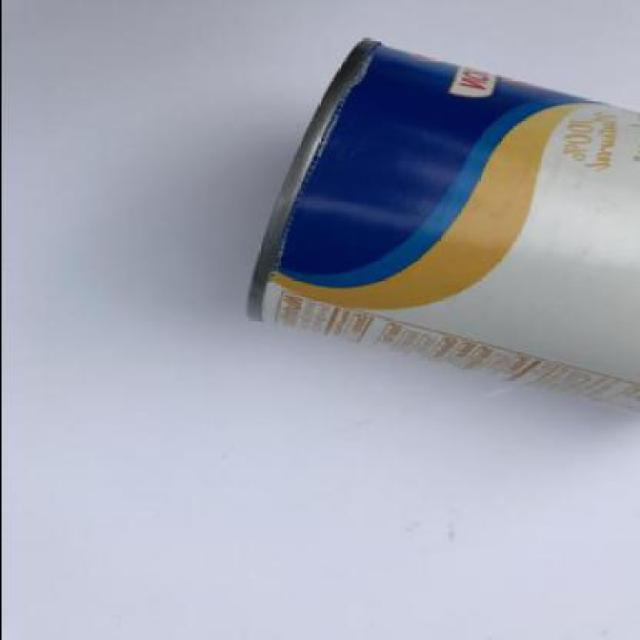METAL: (246, 37, 639, 420)
